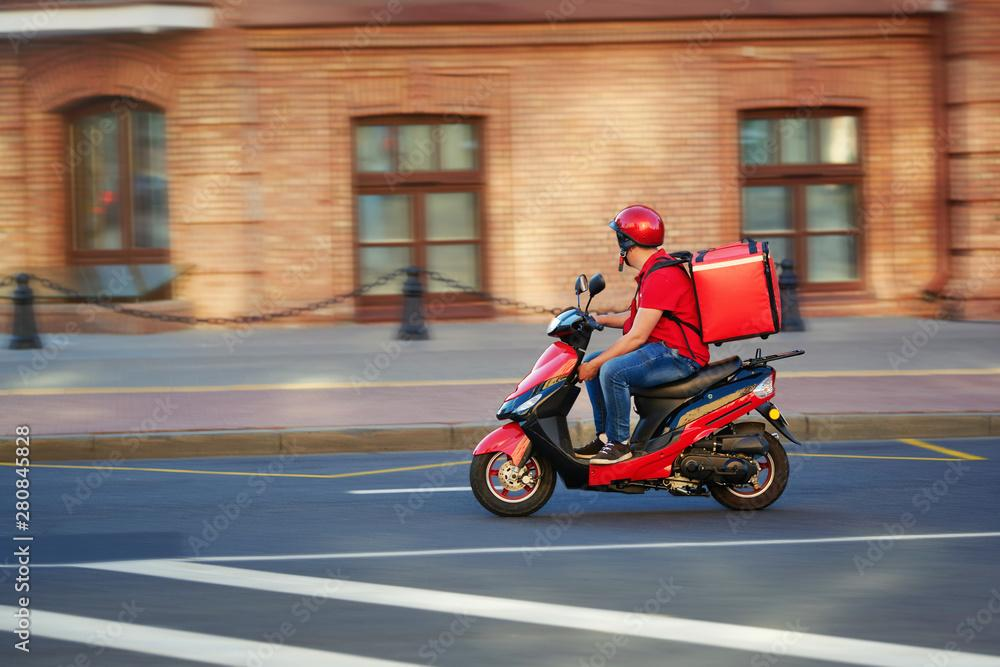helmet: (608, 203, 666, 273)
